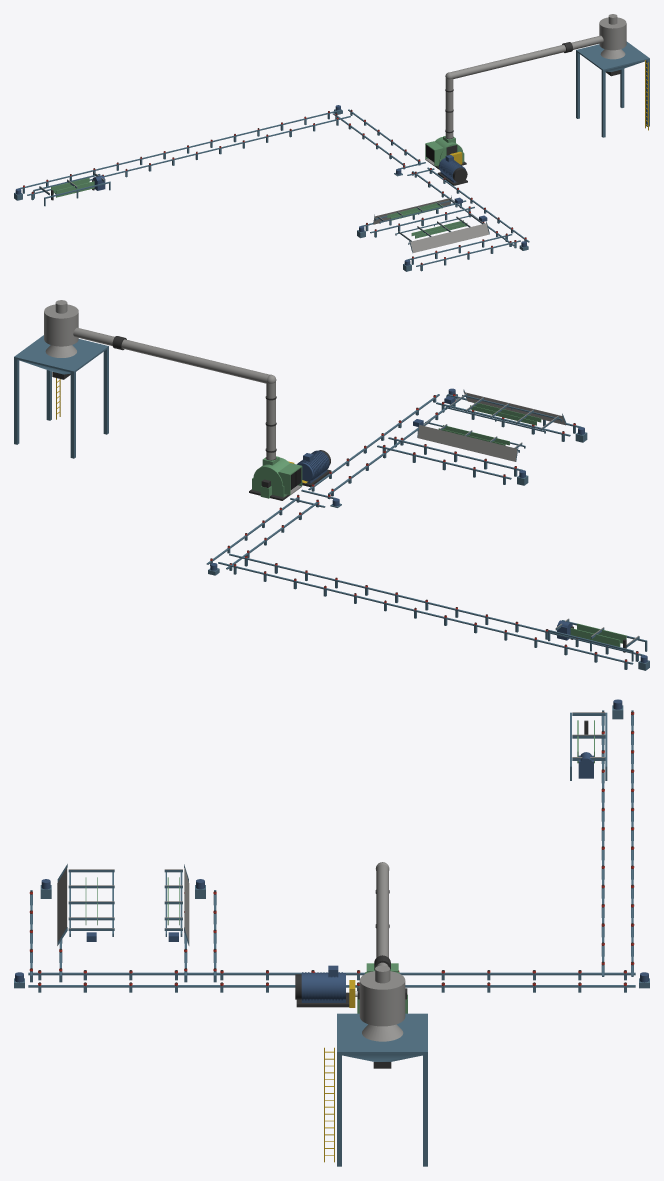
The model's file is waste_frame.glb.
The picture shows the model from 3 angles, top to bottom: view 1: azimuth 30°, elevation 25°; view 2: azimuth 150°, elevation 25°; view 3: azimuth 270°, elevation 25°; orthographic projection. The views are drawn at different scales.
Visible parts, largest first — view 1: WS_FrameMesh; view 2: WS_FrameMesh; view 3: WS_FrameMesh.
Boxes of the visible parts, x1,y1,x2,y2 form: WS_FrameMesh: [14, 14, 649, 271]; WS_FrameMesh: [14, 300, 649, 670]; WS_FrameMesh: [14, 699, 649, 1166].
Bounding box in the file's own units: 42.27 × 7.92 × 25.14.
